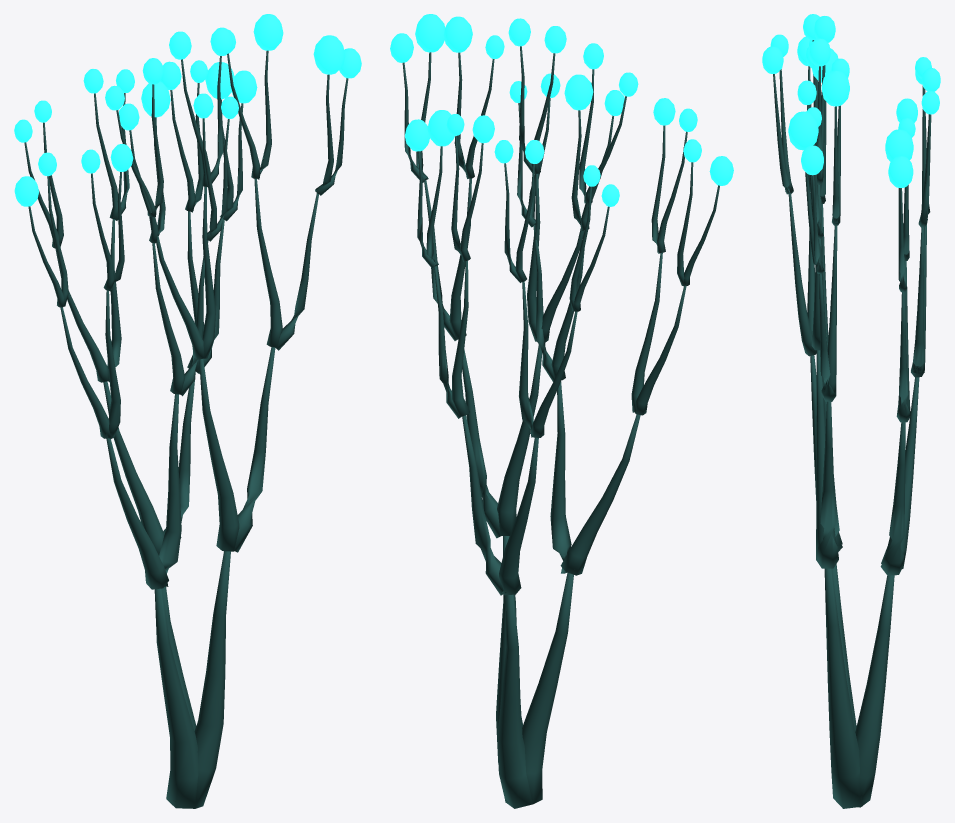
Rendered from SM_CoralBranch_02.fbx.
3 renders of one model, left to right at view 1: azimuth 30°, elevation 25°; view 2: azimuth 150°, elevation 25°; view 3: azimuth 270°, elevation 25°, orthographic. The views are drawn at different scales.
Visible parts, largest first — view 1: SM_CoralBranch_02.001; view 2: SM_CoralBranch_02.001; view 3: SM_CoralBranch_02.001.
Part boxes in pixels (x1=…): SM_CoralBranch_02.001: x1=14, y1=14, x2=361, y2=808; SM_CoralBranch_02.001: x1=390, y1=14, x2=733, y2=808; SM_CoralBranch_02.001: x1=762, y1=14, x2=940, y2=808.
Size of the model in its own units: 186 by 84.58 by 406.
